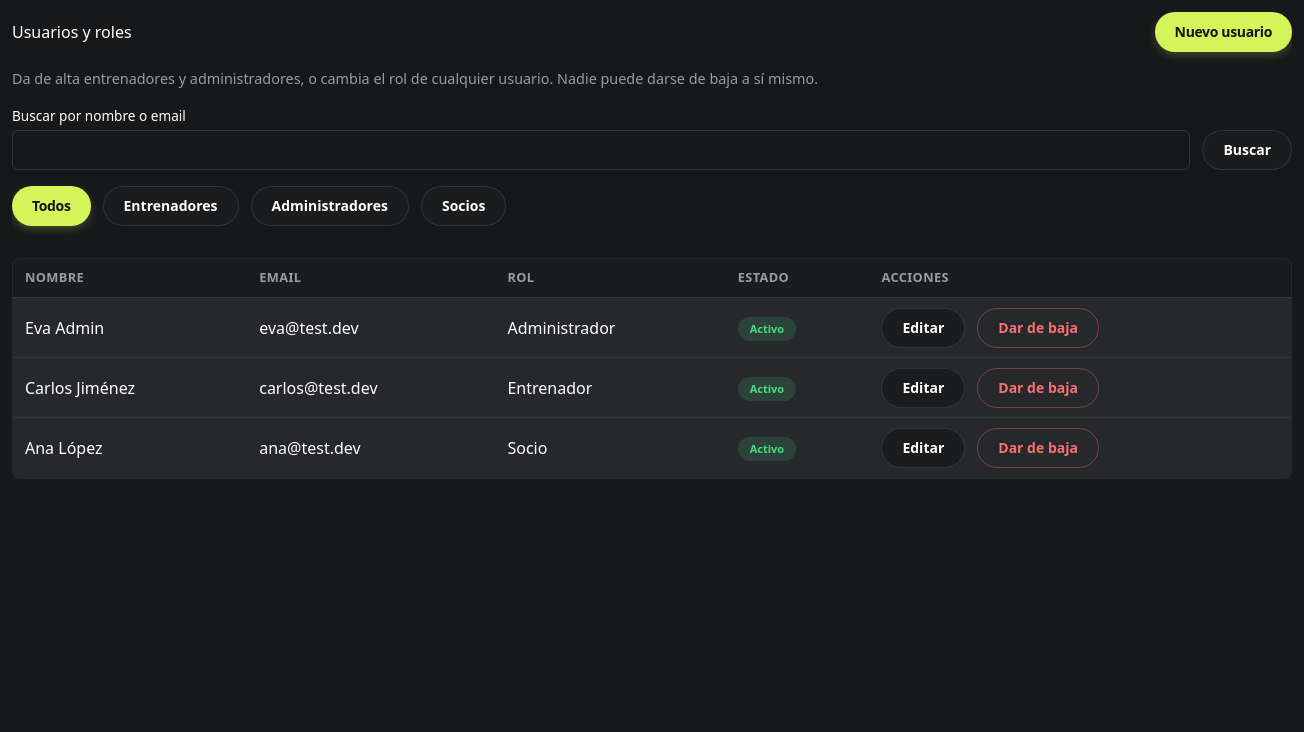
Scenario: AdminUsersPage › muestra el aviso de la API si una persona admin intenta darse de baja
Expected: the text "Eva Admin" is shown, [12,298,247,358]
Click the button "Dar de baja" in the row of "Eva Admin": (1038,328) [977,308,1099,348]
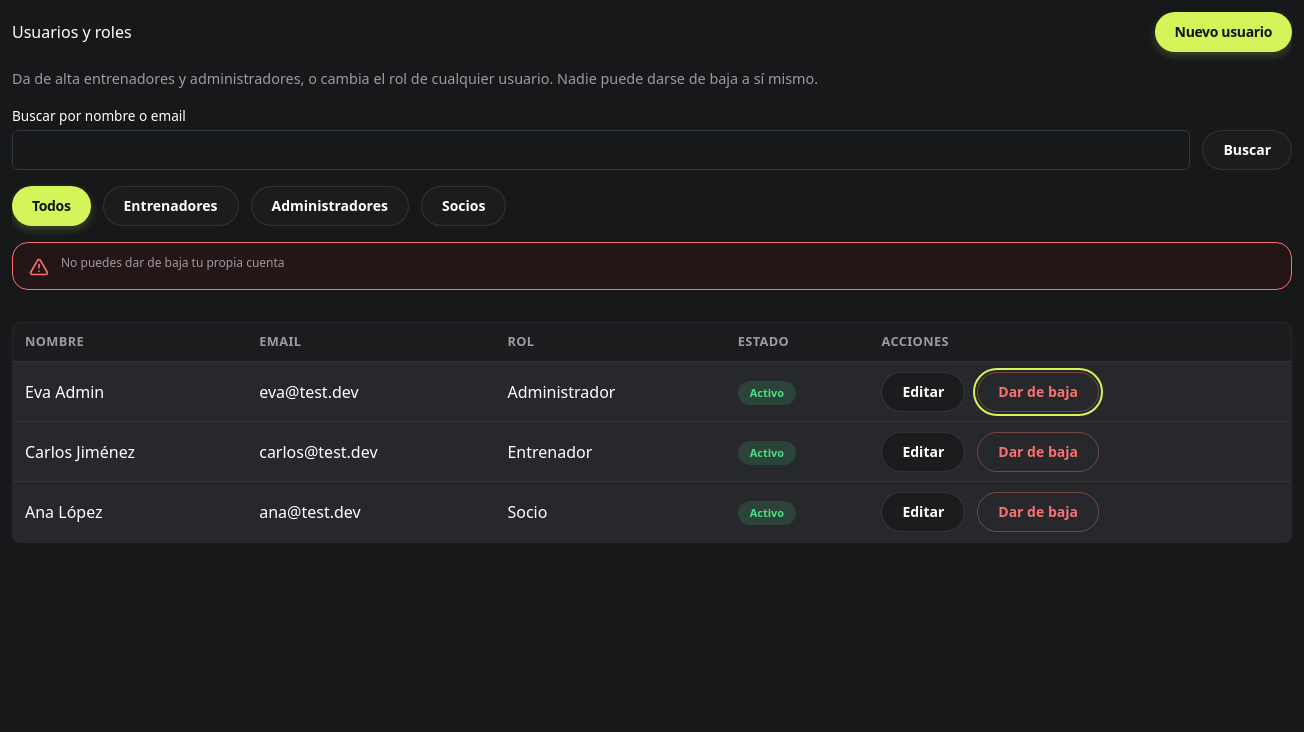
Expected: the message reads "No puedes dar de baja tu propia cuenta", [61,254,285,271]
